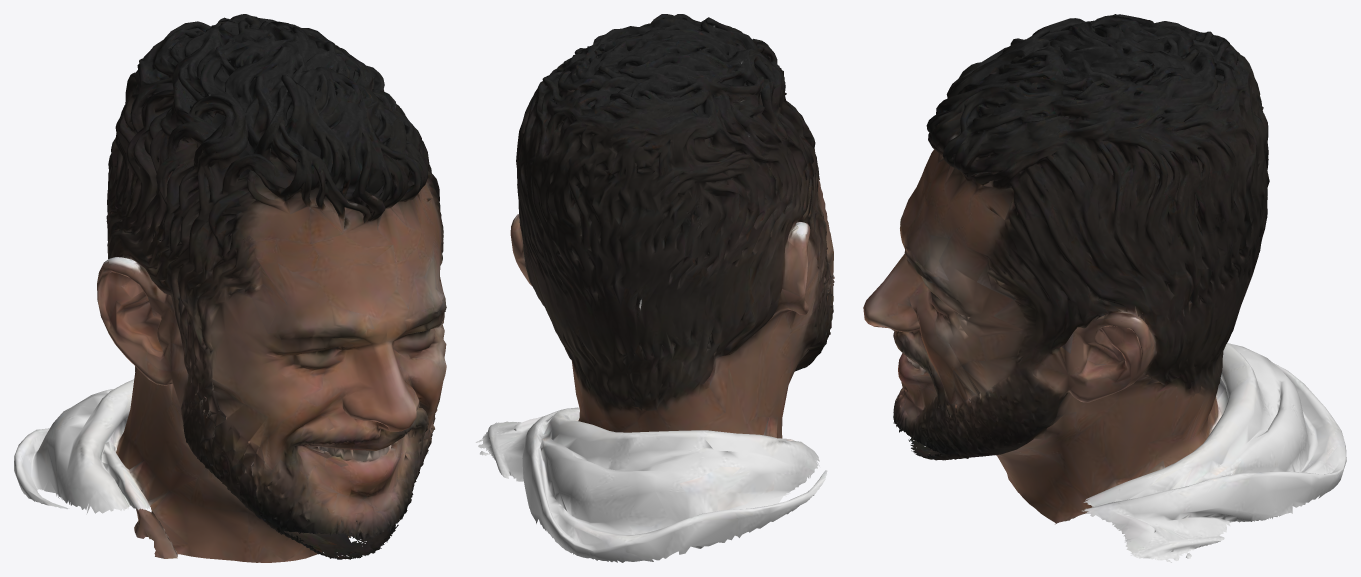
Rendered from head_stephen.glb.
3 renders of one model, left to right at view 1: azimuth 30°, elevation 25°; view 2: azimuth 150°, elevation 25°; view 3: azimuth 270°, elevation 25°, orthographic. The views are drawn at different scales.
Visible parts, largest first — view 1: Mesh_0; view 2: Mesh_0; view 3: Mesh_0.
Boxes of the visible parts, left/top/right/bottom form: Mesh_0: left=14, top=14, right=446, bottom=562; Mesh_0: left=475, top=14, right=834, bottom=562; Mesh_0: left=863, top=14, right=1346, bottom=562.
Size of the model in its own units: 0.9032 by 1.11 by 1.05.
1 material, 1 textured.
